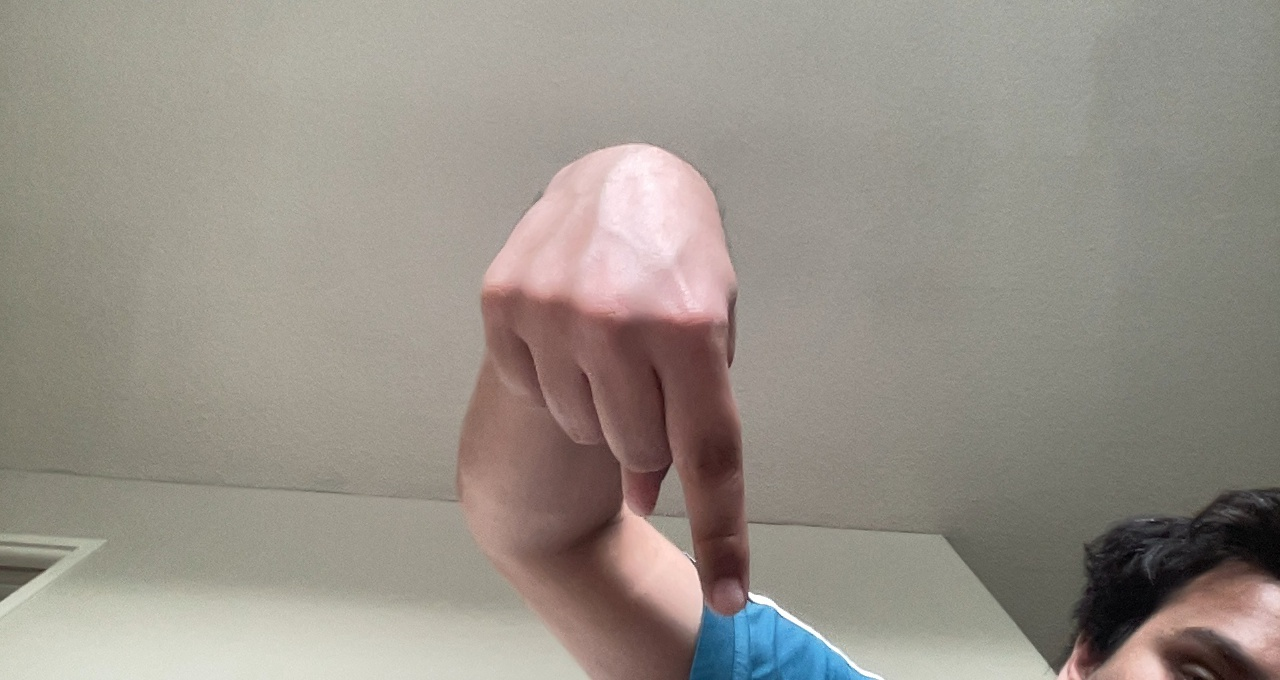fingerdown: (473, 140, 765, 617)
